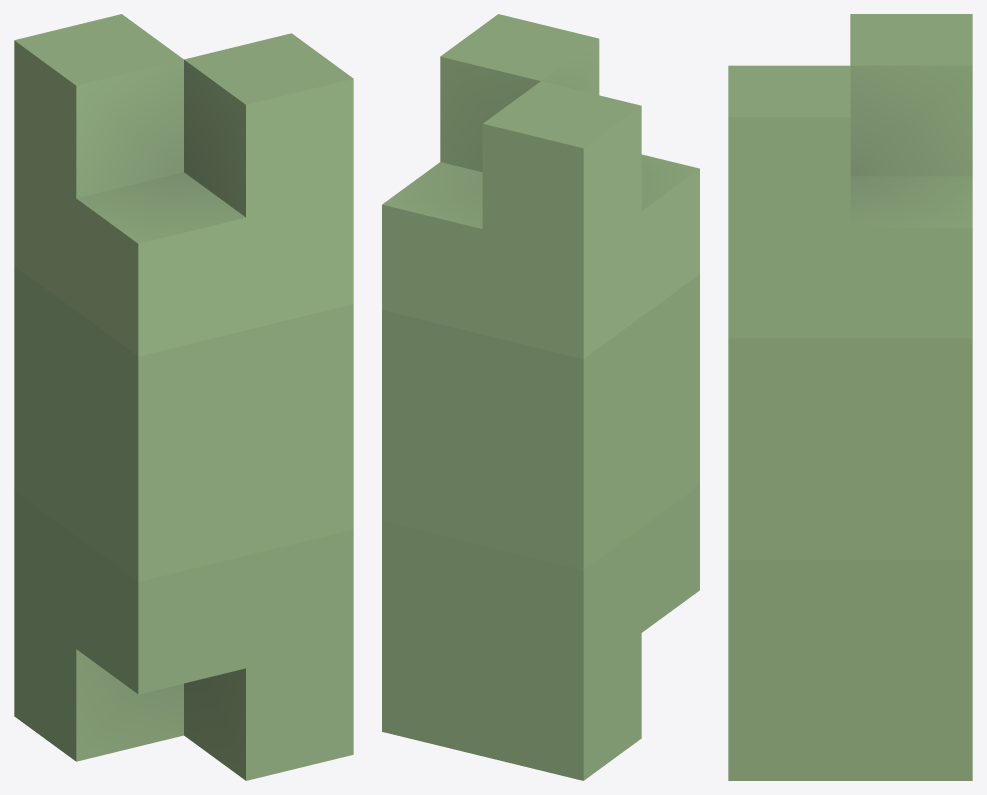
Rendered from decor_bush_b.glb.
The picture shows the model from 3 angles, left to right: view 1: azimuth 30°, elevation 25°; view 2: azimuth 150°, elevation 25°; view 3: azimuth 270°, elevation 25°; orthographic projection. The views are drawn at different scales.
Parts seen in each view (by area): view 1: decor_bush_b; view 2: decor_bush_b; view 3: decor_bush_b.
Part boxes in pixels (x1=…): decor_bush_b: x1=14, y1=14, x2=353, y2=780; decor_bush_b: x1=382, y1=14, x2=699, y2=780; decor_bush_b: x1=728, y1=14, x2=972, y2=780.
Bounding box in the file's own units: 0.25 × 0.75 × 0.25.
